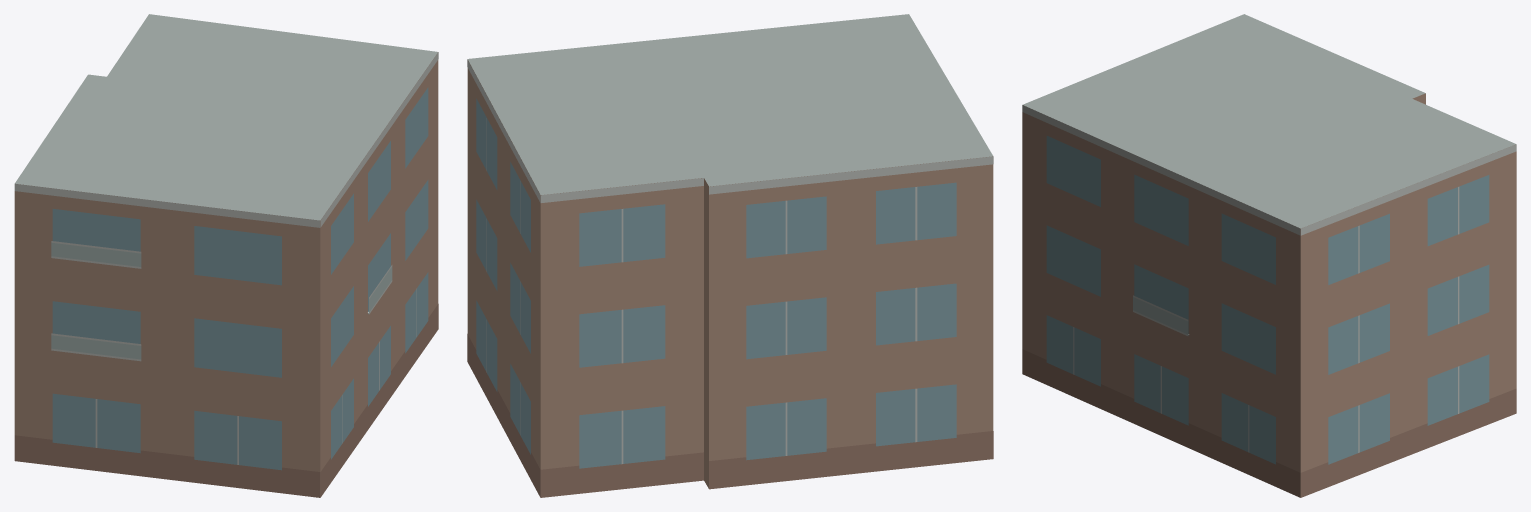
Rendered from survey-upis-32717207.glb.
3 views of the same model, side by side, from view 1: azimuth 30°, elevation 25°; view 2: azimuth 150°, elevation 25°; view 3: azimuth 270°, elevation 25° (orthographic). The views are drawn at different scales.
Visible parts, largest first — view 1: survey-upis-32717207.tmp; view 2: survey-upis-32717207.tmp; view 3: survey-upis-32717207.tmp.
Boxes of the visible parts, bbox=[...] form: survey-upis-32717207.tmp: bbox=[14, 14, 438, 497]; survey-upis-32717207.tmp: bbox=[467, 14, 993, 497]; survey-upis-32717207.tmp: bbox=[1022, 14, 1516, 497].
Bounding box in the file's own units: 15.64 × 9.15 × 15.22.
